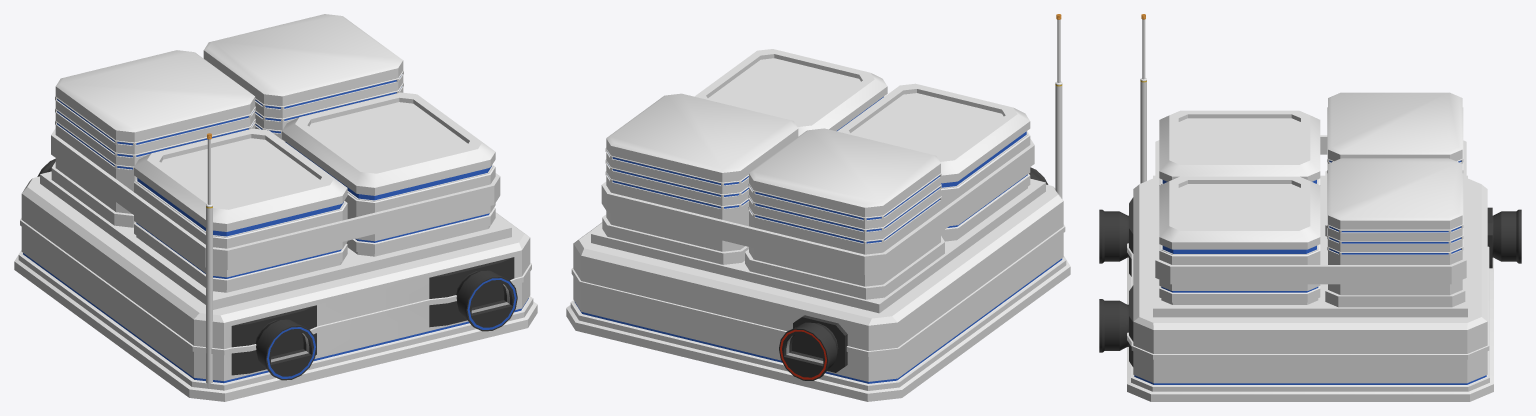
Rendered from Laboratory.fbx.
The picture shows the model from 3 angles, left to right: view 1: azimuth 30°, elevation 25°; view 2: azimuth 150°, elevation 25°; view 3: azimuth 270°, elevation 25°; orthographic projection. The views are drawn at different scales.
Visible parts, largest first — view 1: Labororatory; view 2: Labororatory; view 3: Labororatory.
Part boxes in pixels (bbox=[...]): Labororatory: bbox=[14, 14, 537, 401]; Labororatory: bbox=[566, 14, 1070, 401]; Labororatory: bbox=[1099, 14, 1521, 401].
Bounding box in the file's own units: 174 × 125 × 200.
